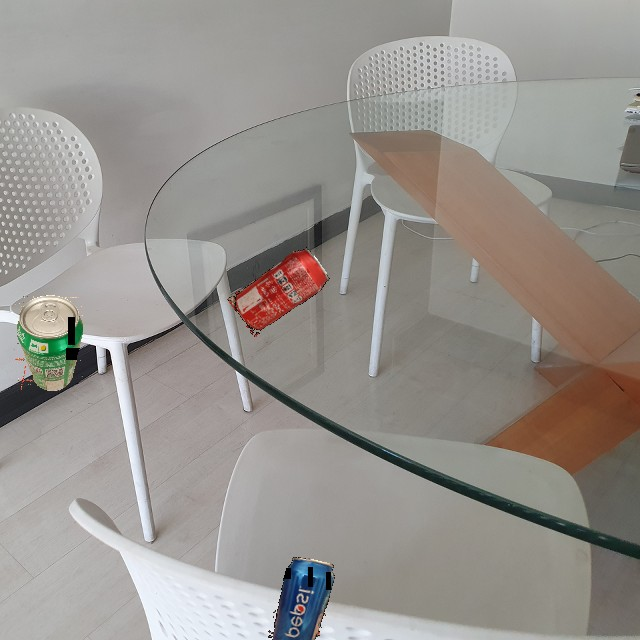coca cola: (227, 243, 333, 337)
pepsi: (265, 555, 339, 640)
sprite: (15, 295, 83, 391)
